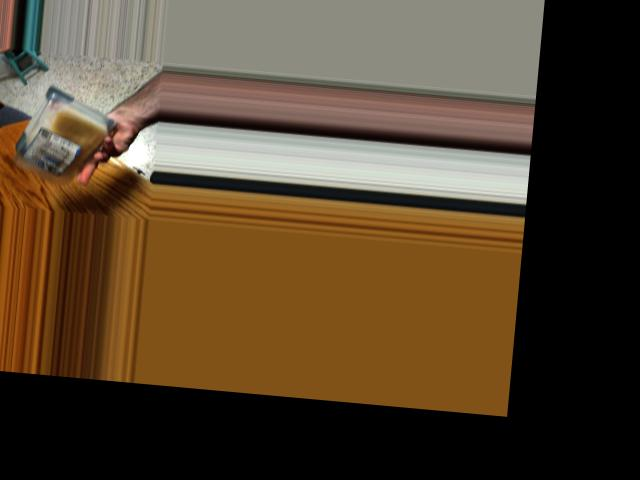cheese: (13, 84, 94, 181)
